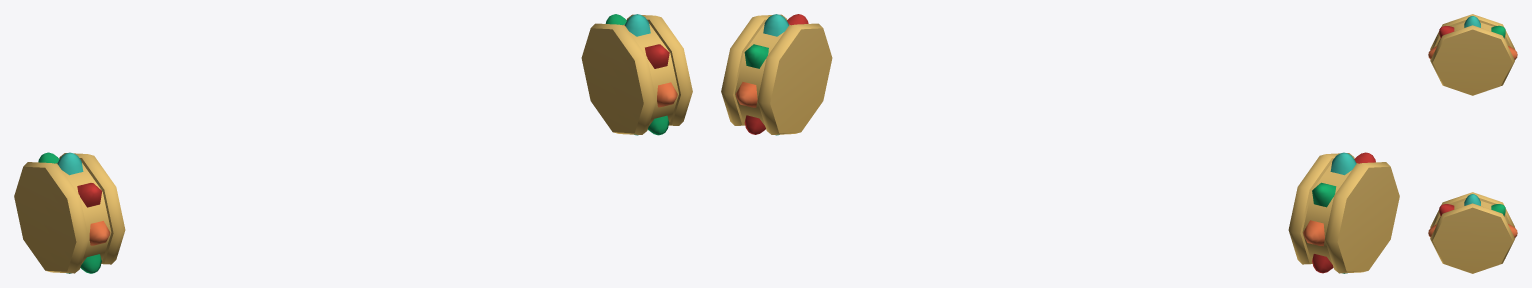
File: Bracelet_2.fbx
3 views of the same model, side by side, from view 1: azimuth 30°, elevation 25°; view 2: azimuth 150°, elevation 25°; view 3: azimuth 270°, elevation 25° (orthographic). The views are drawn at different scales.
Parts seen in each view (by area): view 1: Bracelet_2; view 2: Bracelet_2; view 3: Bracelet_2.
Boxes of the visible parts, bbox=[...] form: Bracelet_2: bbox=[14, 14, 692, 273]; Bracelet_2: bbox=[721, 14, 1399, 273]; Bracelet_2: bbox=[1428, 14, 1517, 273].
Bounding box in the file's own units: 96.16 × 17.74 × 18.73.
